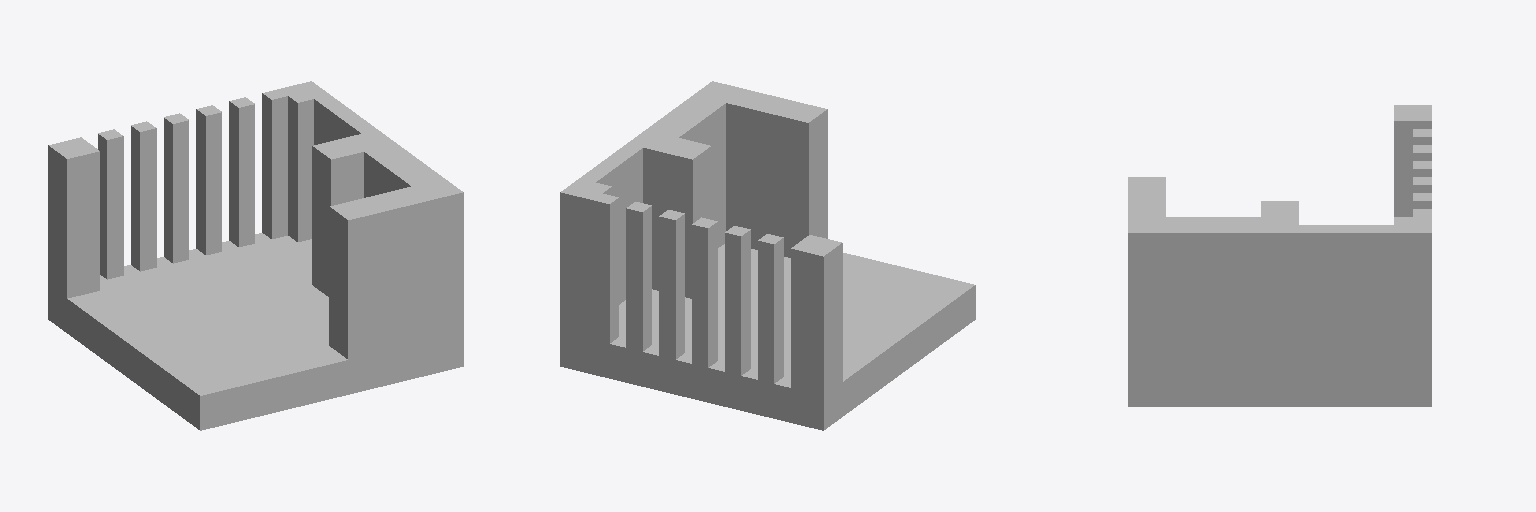
The model's file is building.obj.
3 renders of one model, left to right at view 1: azimuth 30°, elevation 25°; view 2: azimuth 150°, elevation 25°; view 3: azimuth 270°, elevation 25°, orthographic.
Visible parts, largest first — view 1: Cube_Cube.001; view 2: Cube_Cube.001; view 3: Cube_Cube.001.
Part boxes in pixels (x1,y1,x2,y2): Cube_Cube.001: (48, 81, 463, 430); Cube_Cube.001: (560, 81, 975, 430); Cube_Cube.001: (1128, 105, 1431, 406).
Bounding box in the file's own units: 15.8 × 10 × 15.8.